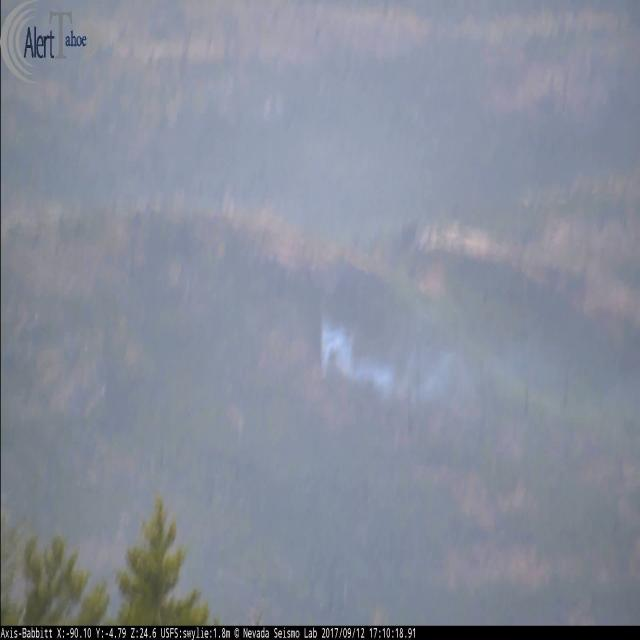smoke: (319, 313, 394, 389)
